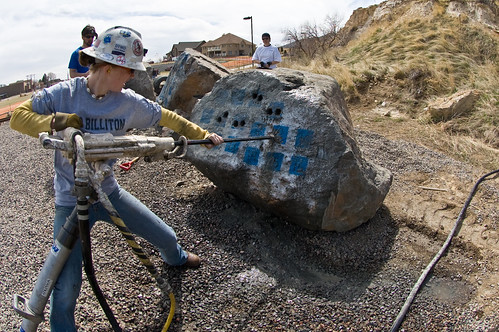person hardhat: (6, 25, 228, 323)
